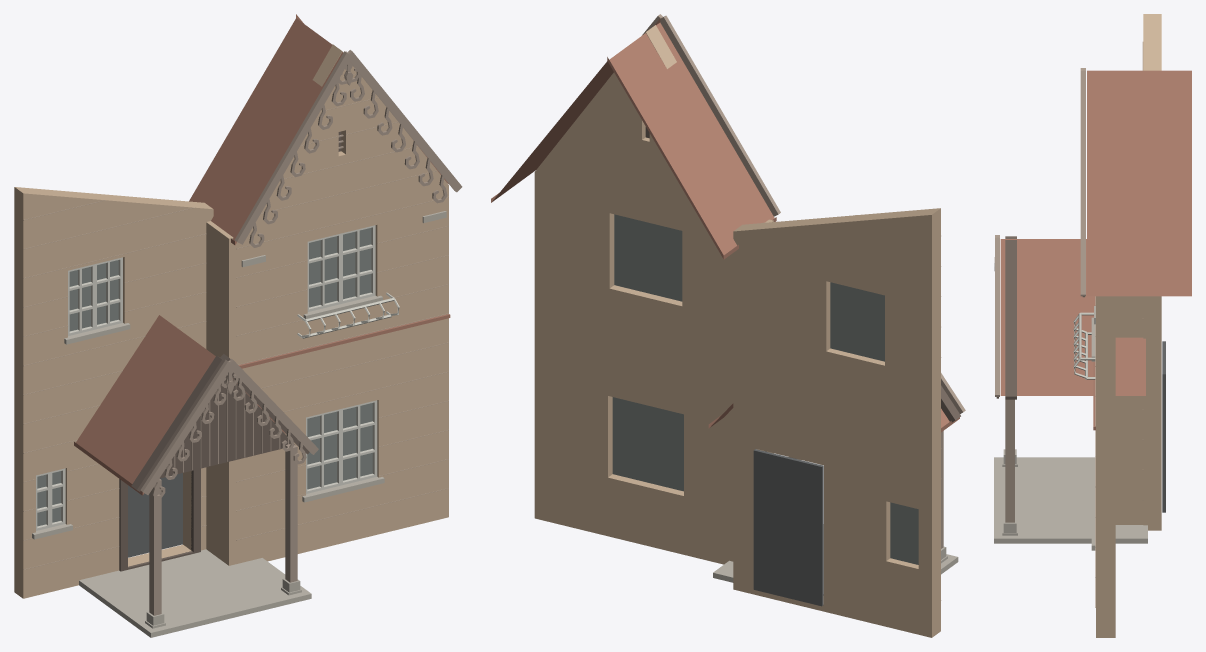
Rendered from jingan-electricity-department-residence-gabled-porch-lod.glb.
3 renders of one model, left to right at view 1: azimuth 30°, elevation 25°; view 2: azimuth 150°, elevation 25°; view 3: azimuth 270°, elevation 25°, orthographic. The views are drawn at different scales.
Parts seen in each view (by area): view 1: 胶州路561号电力部住宅门廊与砖山墙; view 2: 胶州路561号电力部住宅门廊与砖山墙; view 3: 胶州路561号电力部住宅门廊与砖山墙.
Part boxes in pixels (left/top/right/bottom): 胶州路561号电力部住宅门廊与砖山墙: left=14, top=14, right=462, bottom=637; 胶州路561号电力部住宅门廊与砖山墙: left=491, top=14, right=965, bottom=637; 胶州路561号电力部住宅门廊与砖山墙: left=994, top=14, right=1191, bottom=637.
Size of the model in its own units: 7.76 by 9 by 3.13.
